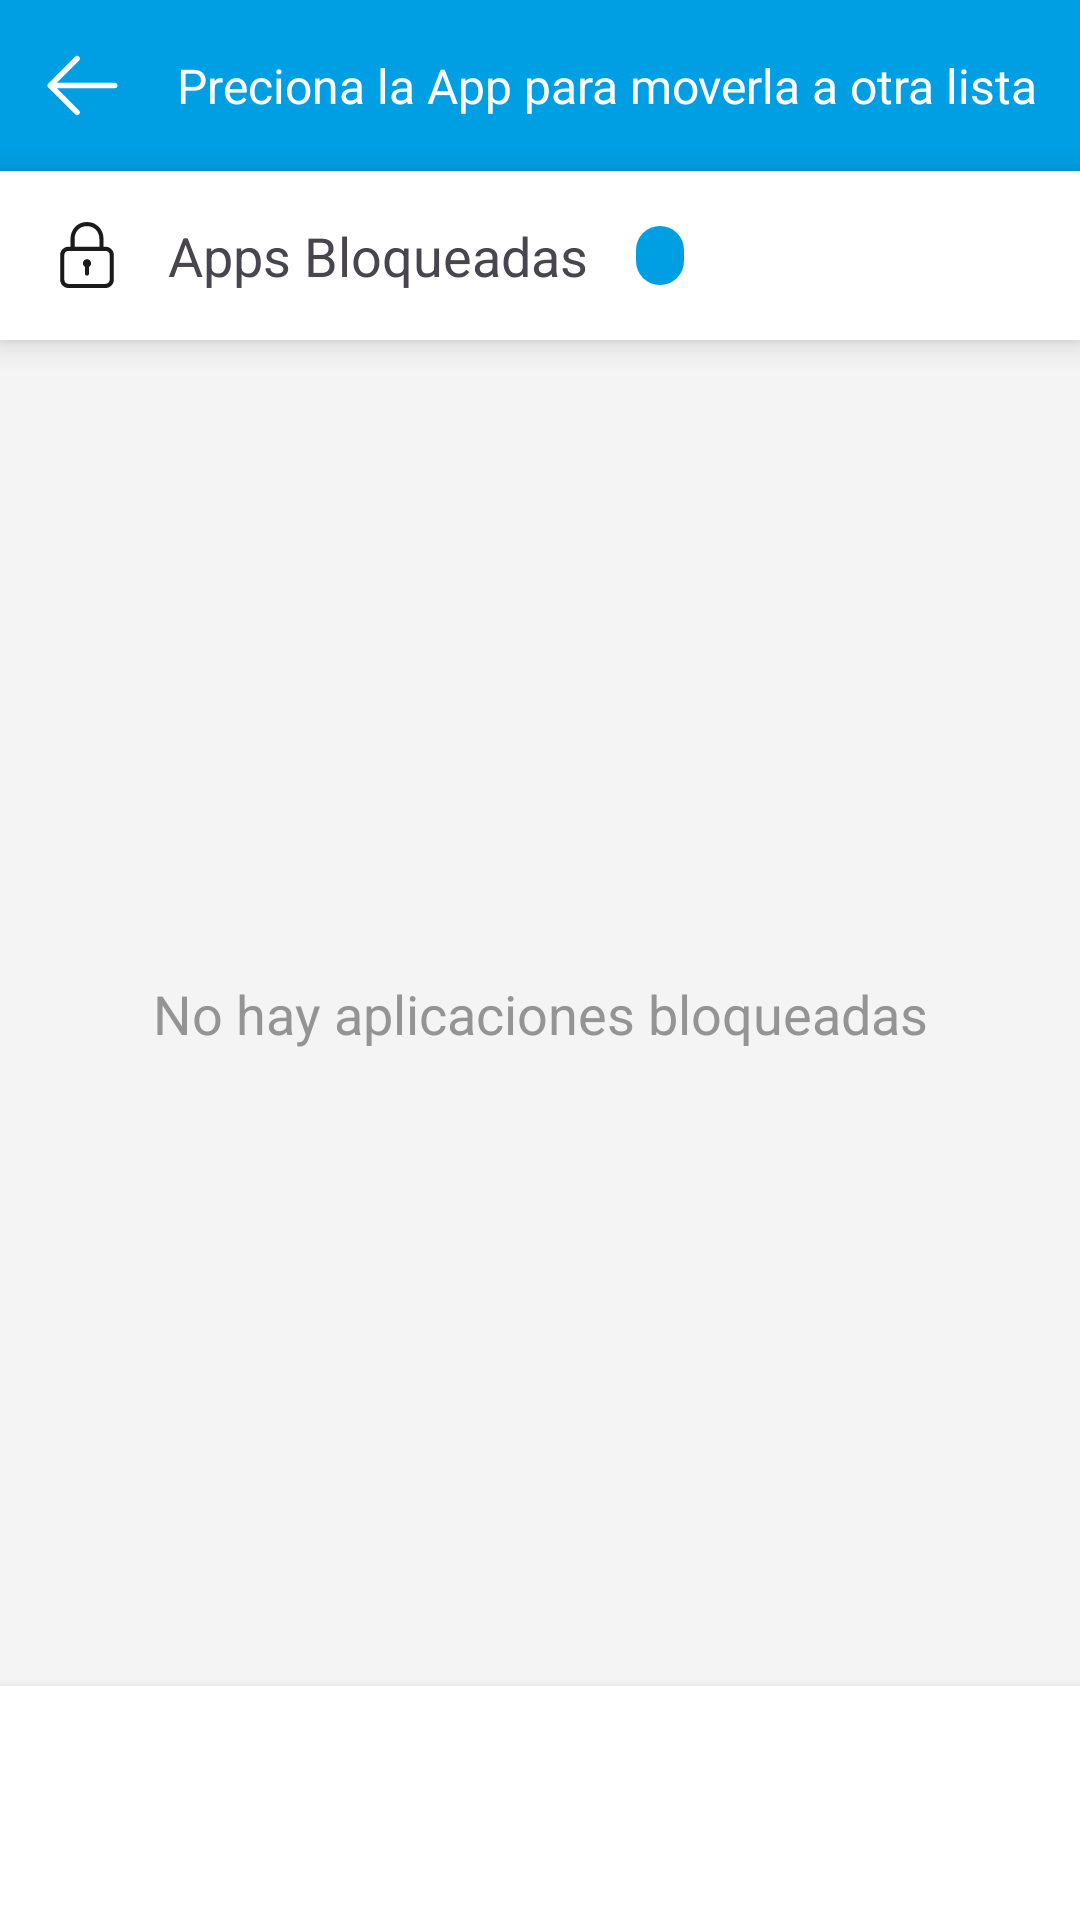

Where to tap for icons on this 1080 × 1920 app screen, as (x=x, y=y):
lock: (x=87, y=255)
